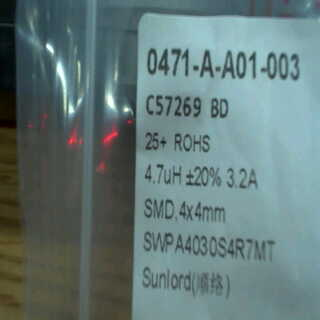4.7uH: (139, 161, 185, 186)
